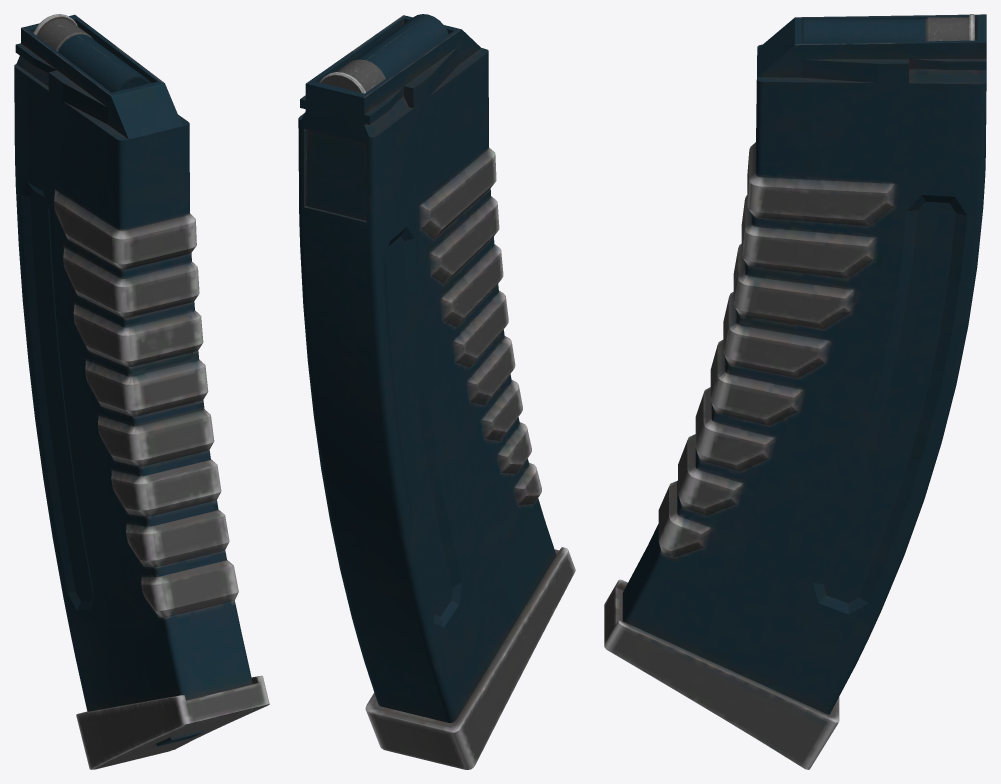
File: Mag_12G_20rnds_A.glb
3 views of the same model, side by side, from view 1: azimuth 30°, elevation 25°; view 2: azimuth 150°, elevation 25°; view 3: azimuth 270°, elevation 25° (orthographic). The views are drawn at different scales.
Visible parts, largest first — view 1: Mag_12G_20rnds, Cartridge1.005; view 2: Mag_12G_20rnds, Cartridge1.005; view 3: Mag_12G_20rnds, Cartridge1.005.
Part boxes in pixels (x1,y1,x2,y2): Mag_12G_20rnds: (14,14,269,769); Cartridge1.005: (33,14,150,92); Mag_12G_20rnds: (298,15,575,769); Cartridge1.005: (319,14,448,93); Mag_12G_20rnds: (604,14,986,769); Cartridge1.005: (803,14,974,42).
Size of the model in its own units: 0.0388 by 0.2941 by 0.1392.
Materials: 2 (2 with a texture image).
